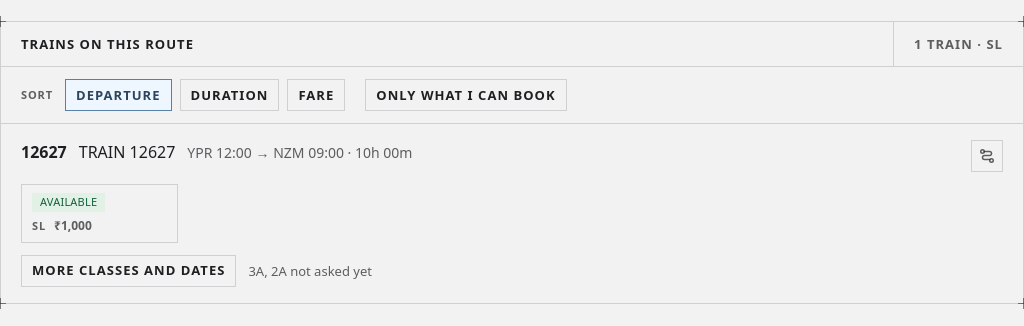
Test: opening a row › asks only for the classes it has not asked, and shows them
Click the button "More classes and dates" at (129, 270), box [21,254,236,286]
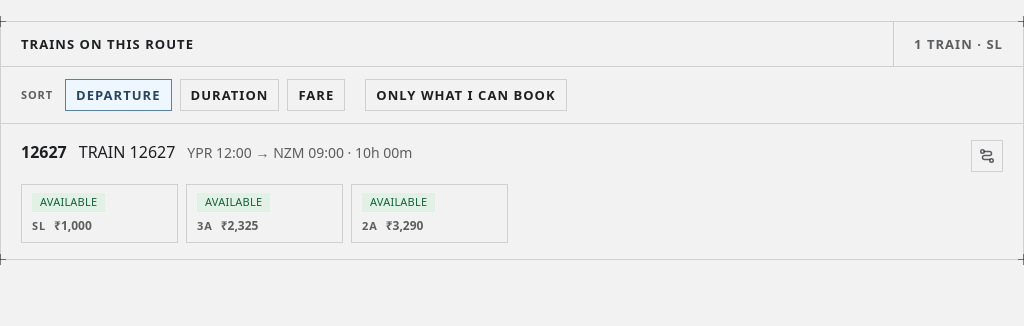
Expected: the number of elements with test id "class-block" is 3, [21,184,178,242]; [186,184,343,242]; [351,184,508,242]
Expected: the text "not asked yet" is gone
